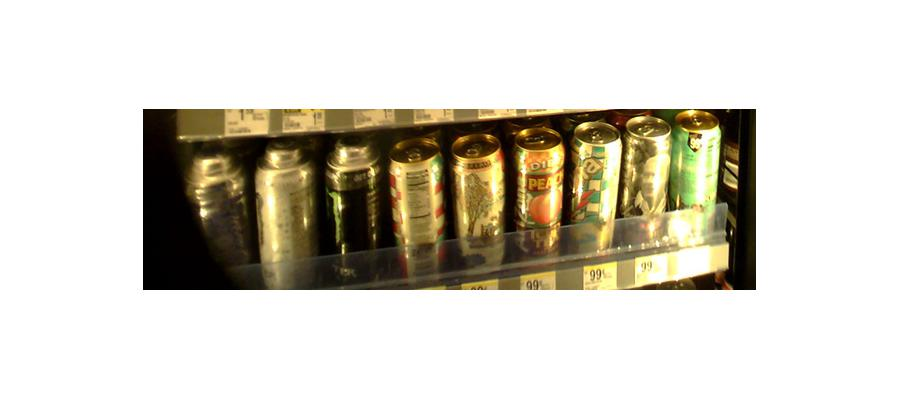bottle: (255, 143, 319, 285), (322, 136, 385, 275), (188, 151, 251, 276), (450, 135, 507, 271), (389, 141, 445, 276), (569, 123, 621, 257), (512, 128, 563, 260), (624, 116, 674, 250), (672, 114, 722, 246)
